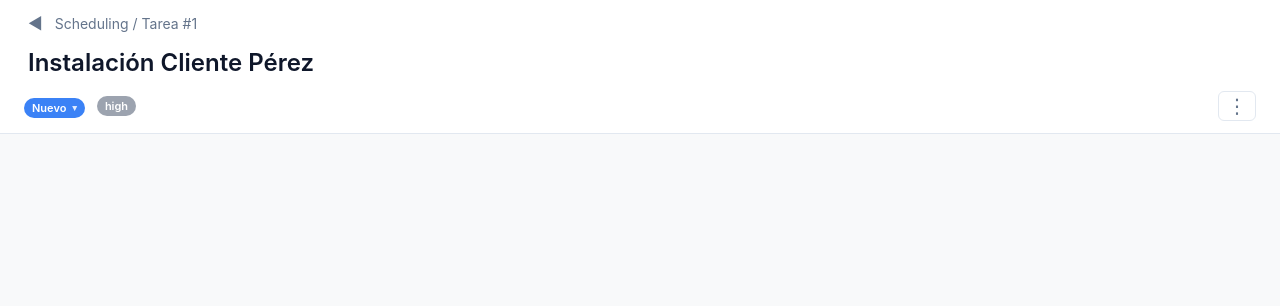
Test: TaskHeader › shows "Eliminar tarea" in kebab menu for admin
This screenshot has width=1280, height=306.
Click the button with test id "kebab-menu": (1237, 106) [1218, 91, 1256, 121]
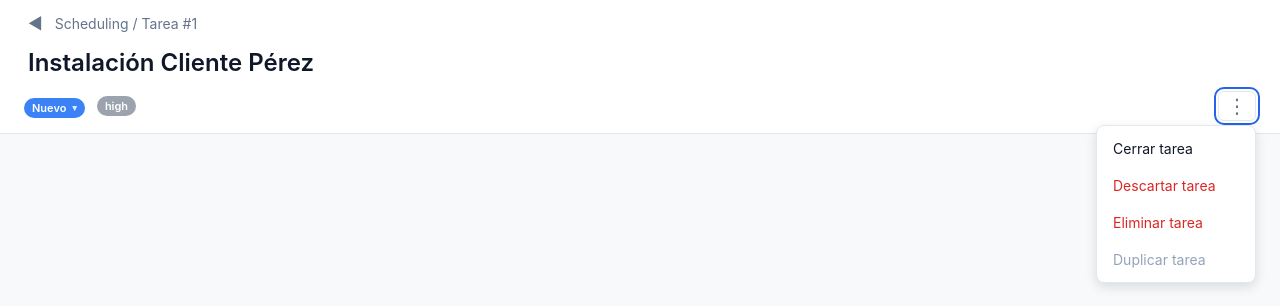
Now the menu item with test id "kebab-delete" is shown, box [1101, 204, 1251, 241]
